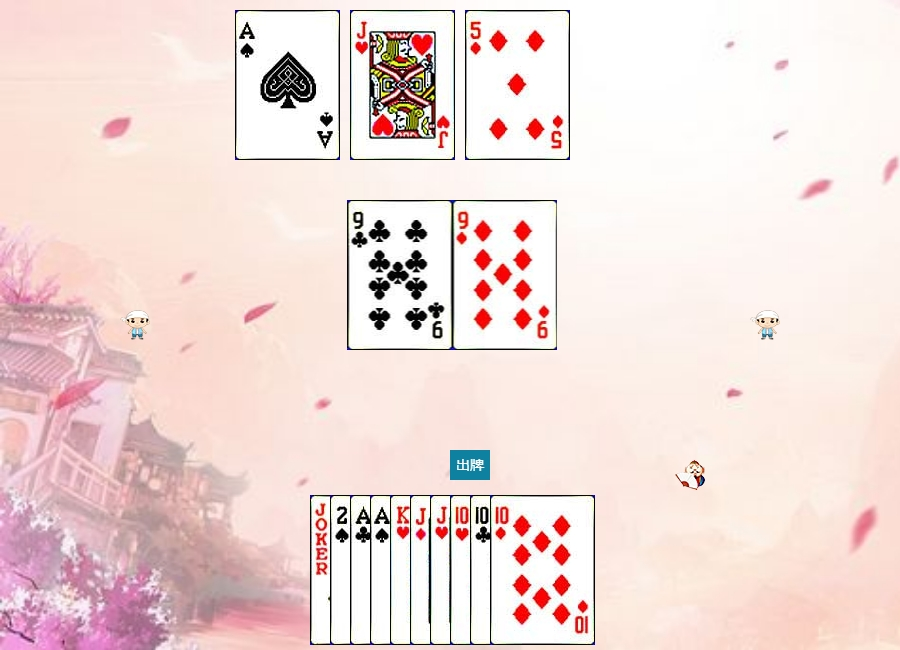10~1: (490, 495, 595, 645)
10~2: (470, 495, 575, 645)
10~3: (450, 495, 555, 645)
11~1: (410, 495, 515, 645)
11~3: (350, 10, 455, 160), (430, 495, 535, 645)
13~3: (390, 495, 495, 645)
14~2: (350, 495, 455, 645)
14~4: (235, 10, 340, 160), (370, 495, 475, 645)
15~4: (330, 495, 435, 645)
18~4: (310, 495, 415, 645)
5~1: (465, 10, 570, 160)
9~1: (453, 200, 558, 350)
9~2: (348, 200, 453, 350)
